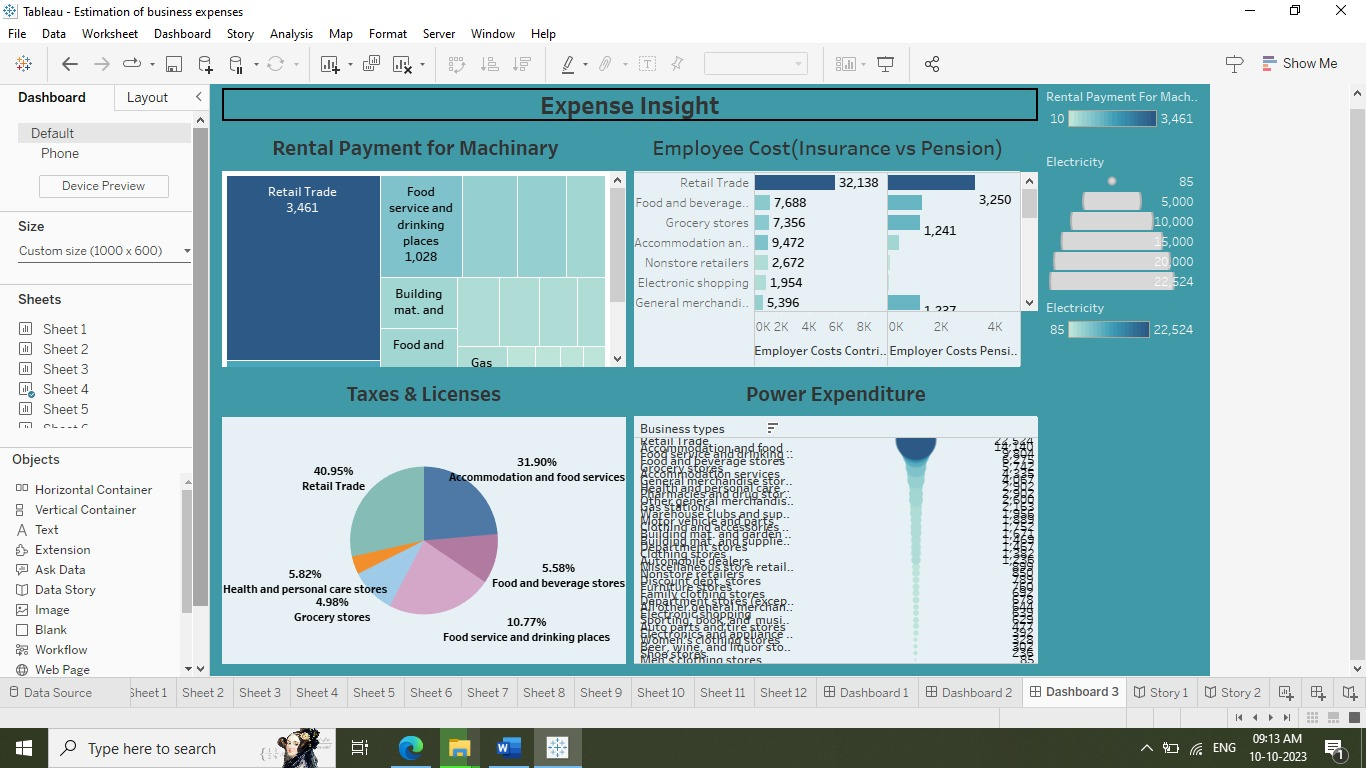

The dashboard page shown, as its layout file describes it:
{"tool":"tableau","page":{"name":"Dashboard 3","canvas":[1000,800],"ordinal":2},"visuals":[{"type":"title","box":[8,8,824,41]},{"type":"legend","title":"Sheet 10","param":"[federated.1aluf8y0ho0fgg1bqzy6j0fe9r3e].[sum:rental_payment_for_machinery:qk]","box":[832,8,160,65]},{"type":"worksheet","title":"Sheet 10","mark":"Automatic","box":[8,49,412,337]},{"type":"worksheet","title":"Sheet 4","mark":"Automatic","rows":["Business_types"],"cols":["employer_costs_contribution_plans","employer_costs_pension_plans"],"box":[420,49,412,337]},{"type":"legend","title":"Sheet 9","param":"[federated.1aluf8y0ho0fgg1bqzy6j0fe9r3e].[sum:electricity:qk]","box":[832,73,160,146]},{"type":"legend","title":"Sheet 9","param":"[federated.1aluf8y0ho0fgg1bqzy6j0fe9r3e].[sum:electricity:qk]","box":[832,219,160,65]},{"type":"worksheet","title":"Sheet 11","mark":"Pie","box":[8,386,412,406]},{"type":"worksheet","title":"Sheet 9","mark":"Shape","rows":["Business_types"],"box":[420,386,412,406]}]}

Visuals, with their boxes on the page's 1000x800 design canvas (x1, y1, x2, y2). These are canvas units, not pixel positions in the 1366x768 screenshot, which may show the page scaled, cropped or inside an application window:
title: {"left": 8, "top": 8, "right": 832, "bottom": 49}
"Sheet 10" legend: {"left": 832, "top": 8, "right": 992, "bottom": 73}
"Sheet 10" worksheet: {"left": 8, "top": 49, "right": 420, "bottom": 386}
"Sheet 4" worksheet: {"left": 420, "top": 49, "right": 832, "bottom": 386}
"Sheet 9" legend: {"left": 832, "top": 73, "right": 992, "bottom": 219}
"Sheet 9" legend: {"left": 832, "top": 219, "right": 992, "bottom": 284}
"Sheet 11" worksheet (Pie marks): {"left": 8, "top": 386, "right": 420, "bottom": 792}
"Sheet 9" worksheet (Shape marks): {"left": 420, "top": 386, "right": 832, "bottom": 792}
